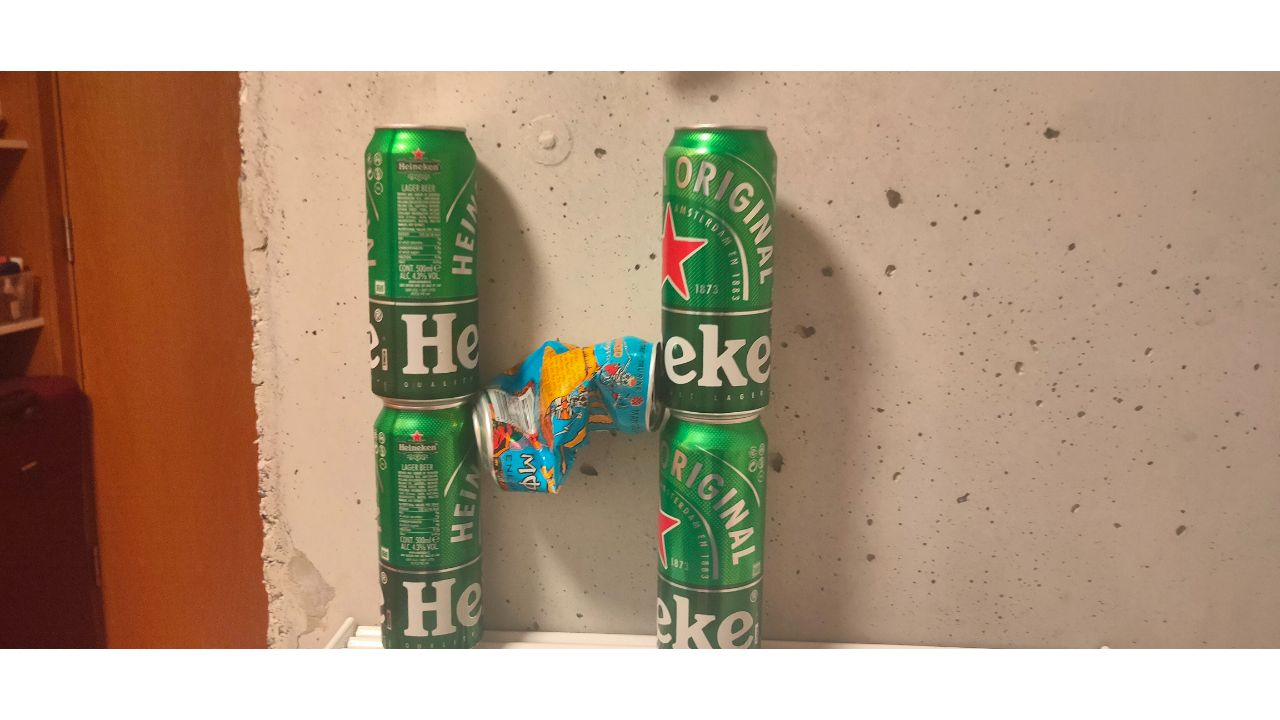Can: (663, 126, 773, 413), (365, 124, 477, 405), (474, 339, 658, 497), (371, 400, 486, 649), (655, 415, 765, 654)
